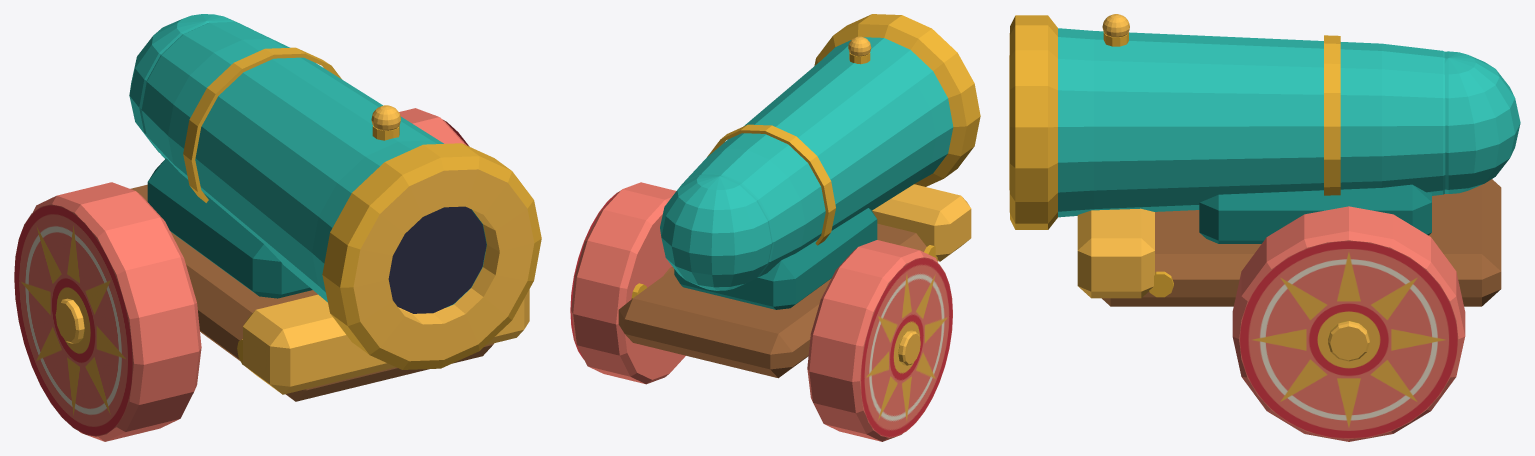
File: asset.glb
3 views of the same model, side by side, from view 1: azimuth 30°, elevation 25°; view 2: azimuth 150°, elevation 25°; view 3: azimuth 270°, elevation 25° (orthographic). The views are drawn at different scales.
Parts seen in each view (by area): view 1: Teal cannon barrel, Painted sunburst wheel face, Muzzle lip inner rim, Chunky coral wheel, Gold flared muzzle, Carriage front crosspiece, Barrel cradle, Dark bore, Broad carriage, Breech gold collar, Rounded breech, Chunky coral wheel.001 (+2 smaller); view 2: Teal cannon barrel, Broad carriage, Chunky coral wheel.001, Painted sunburst wheel face, Chunky coral wheel, Rounded breech, Gold flared muzzle, Barrel cradle, Carriage front crosspiece, Breech gold collar, Axle cap; view 3: Teal cannon barrel, Painted sunburst wheel face.001, Broad carriage, Gold flared muzzle, Chunky coral wheel.001, Rounded breech, Barrel cradle, Carriage front crosspiece, Breech gold collar, Axle cap.001, Sight bead.
Part boxes in pixels (bbox=[...]): Teal cannon barrel: bbox=[141, 22, 486, 307]; Painted sunburst wheel face: bbox=[14, 204, 132, 436]; Muzzle lip inner rim: bbox=[353, 169, 534, 361]; Chunky coral wheel: bbox=[33, 182, 201, 441]; Gold flared muzzle: bbox=[322, 143, 541, 369]; Carriage front crosspiece: bbox=[243, 289, 529, 394]; Barrel cradle: bbox=[147, 158, 312, 298]; Dark bore: bbox=[388, 206, 486, 313]; Broad carriage: bbox=[130, 184, 493, 401]; Breech gold collar: bbox=[183, 47, 341, 202]; Rounded breech: bbox=[129, 14, 252, 152]; Chunky coral wheel.001: bbox=[399, 108, 466, 145]; Teal cannon barrel: bbox=[684, 37, 953, 277]; Broad carriage: bbox=[618, 223, 926, 378]; Chunky coral wheel.001: bbox=[571, 182, 685, 384]; Painted sunburst wheel face: bbox=[860, 257, 952, 437]; Chunky coral wheel: bbox=[807, 240, 938, 441]; Rounded breech: bbox=[660, 174, 772, 290]; Gold flared muzzle: bbox=[814, 14, 980, 186]; Barrel cradle: bbox=[674, 208, 877, 309]; Carriage front crosspiece: bbox=[872, 184, 971, 261]; Breech gold collar: bbox=[707, 124, 835, 245]; Axle cap: bbox=[898, 330, 920, 365]; Teal cannon barrel: bbox=[1058, 28, 1445, 217]; Painted sunburst wheel face.001: bbox=[1239, 240, 1458, 439]; Broad carriage: bbox=[1102, 179, 1501, 306]; Gold flared muzzle: bbox=[1010, 15, 1057, 229]; Chunky coral wheel.001: bbox=[1232, 206, 1465, 441]; Rounded breech: bbox=[1444, 51, 1520, 193]; Barrel cradle: bbox=[1199, 184, 1431, 243]; Carriage front crosspiece: bbox=[1077, 208, 1154, 298]; Breech gold collar: bbox=[1324, 35, 1340, 195]; Axle cap.001: bbox=[1328, 321, 1369, 361]; Sight bead: bbox=[1102, 14, 1129, 37].
Size of the model in its own units: 0.748 by 0.689 by 0.923.
8 materials, 1 textured.
